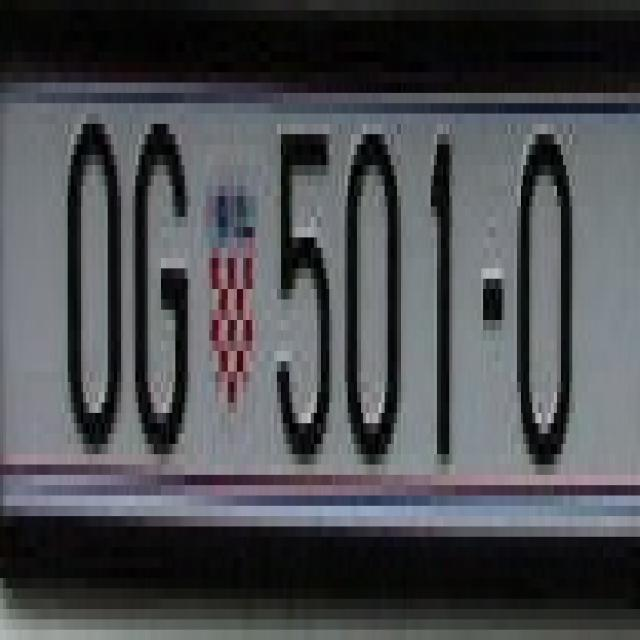0: (514, 124, 572, 475), (342, 103, 400, 444), (65, 93, 120, 433)
1: (416, 124, 456, 464)
5: (277, 124, 329, 454)
G: (132, 124, 194, 454)
